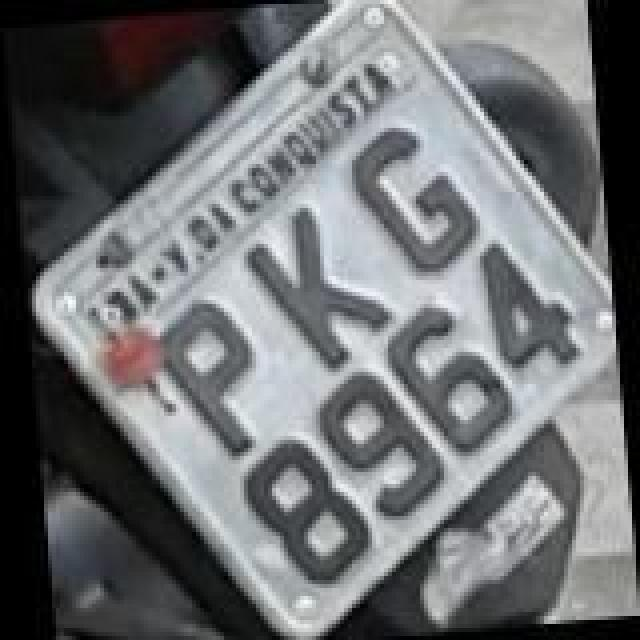4: (476, 232, 596, 376)
6: (378, 298, 518, 462)
8: (236, 418, 372, 590)
9: (304, 350, 448, 530)
G: (342, 114, 490, 286)
K: (246, 200, 394, 376)
P: (148, 294, 268, 466)
